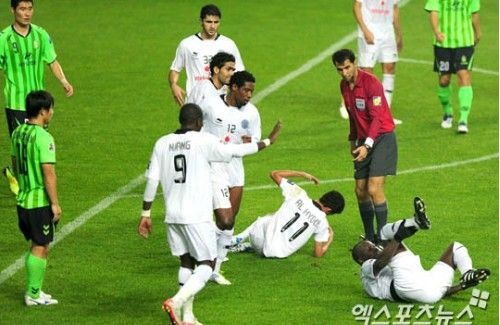falling: (220, 158, 348, 264)
